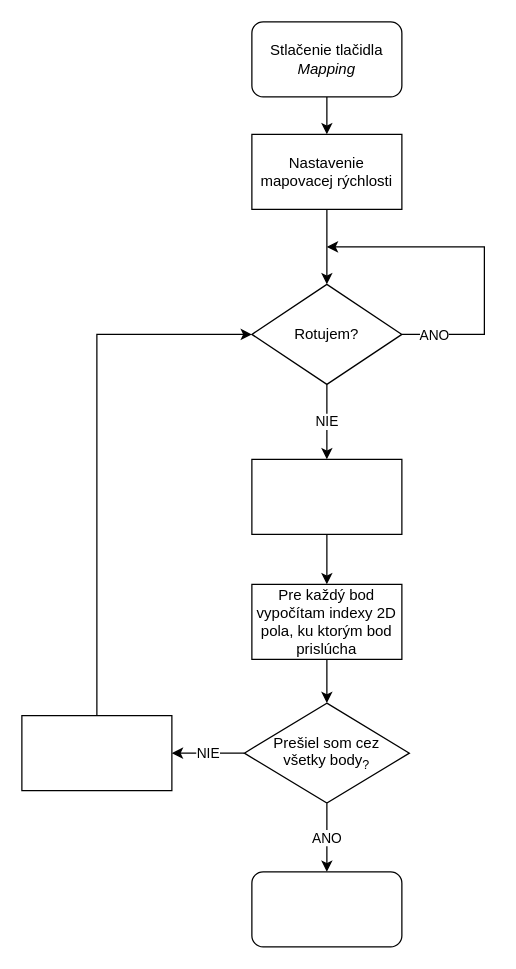
Image size: 516x969. Some labels were removed from this diagram. The centre of each missing label's shape, as x and y in pixels:
"Iterujem cez všetky lidarové dáta" goes at (x=326, y=496).
"Navigujem k ďalšiemu bodu" goes at (x=96, y=752).
"Ukončujem mapovanie, ukladám vytvorenú mapu." goes at (x=326, y=909).
